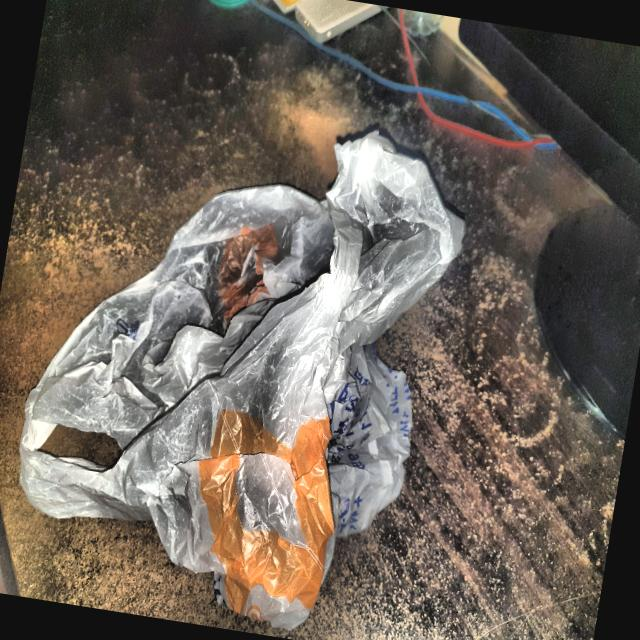plastic bag: (0, 73, 495, 640)
